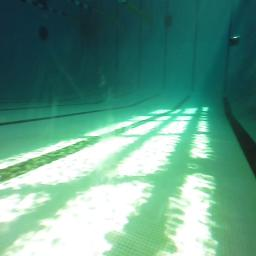Full: (228, 34, 241, 47)
